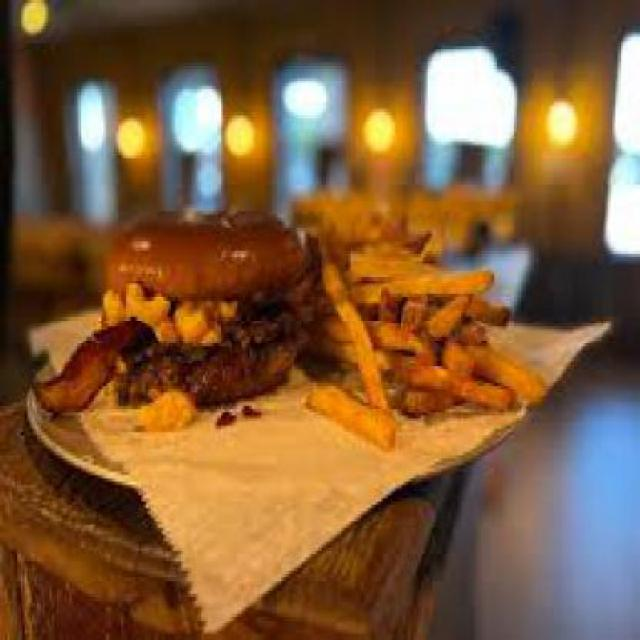french fries: (309, 220, 546, 452)
hamburger: (45, 201, 302, 445)
